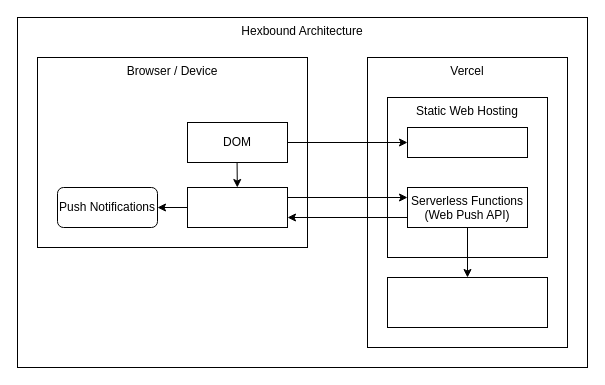
This 605x385 diagram has some shape labels left out. Here are the shapes that lost their labels. From the top down, the centre of each, then its label:
the point at 467,142: Front End Code
the point at 237,207: Service Worker
the point at 467,302: Redis (Game State)
